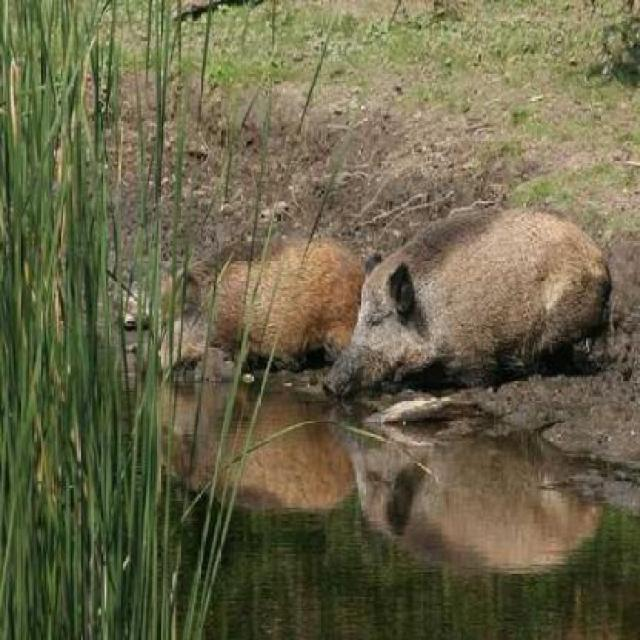Boar: (324, 183, 638, 426), (123, 230, 411, 404)
